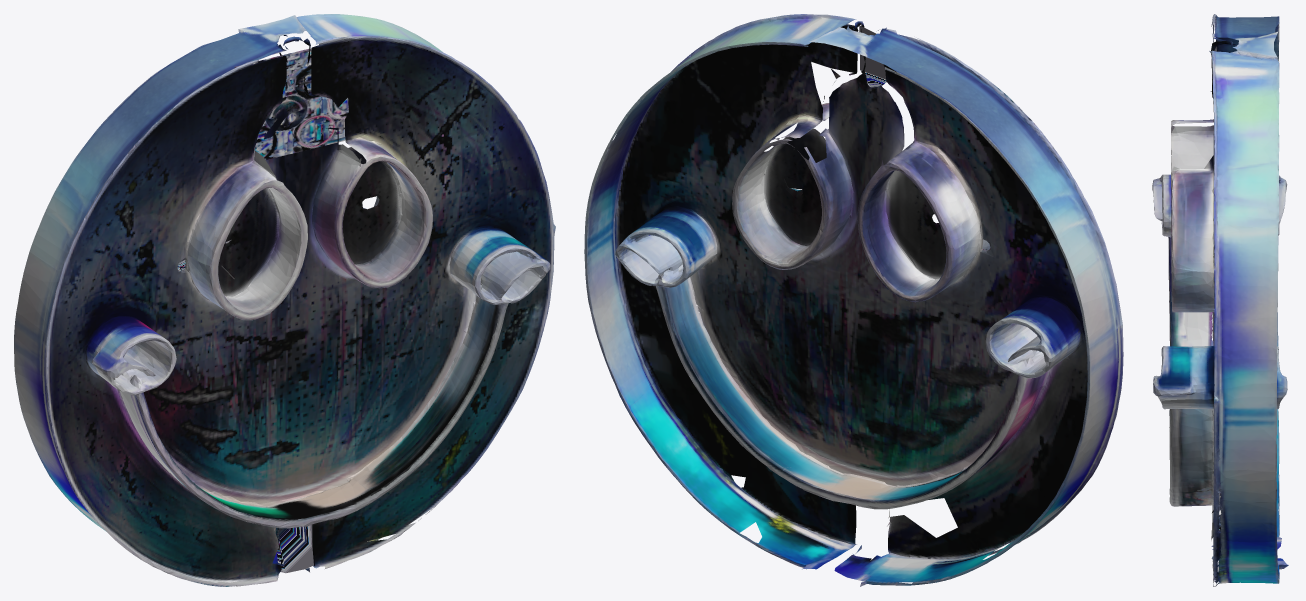
Rendered from smiley.gltf.
3 renders of one model, left to right at view 1: azimuth 30°, elevation 25°; view 2: azimuth 150°, elevation 25°; view 3: azimuth 270°, elevation 25°, orthographic. The views are drawn at different scales.
Parts seen in each view (by area): view 1: world; view 2: world; view 3: world.
Part boxes in pixels (x1,y1,x2,y2): world: (14, 14, 555, 586); world: (584, 14, 1123, 586); world: (1152, 14, 1288, 586).
Size of the model in its own units: 0.9788 by 0.9784 by 0.2406.
Materials: 1 (1 with a texture image).
